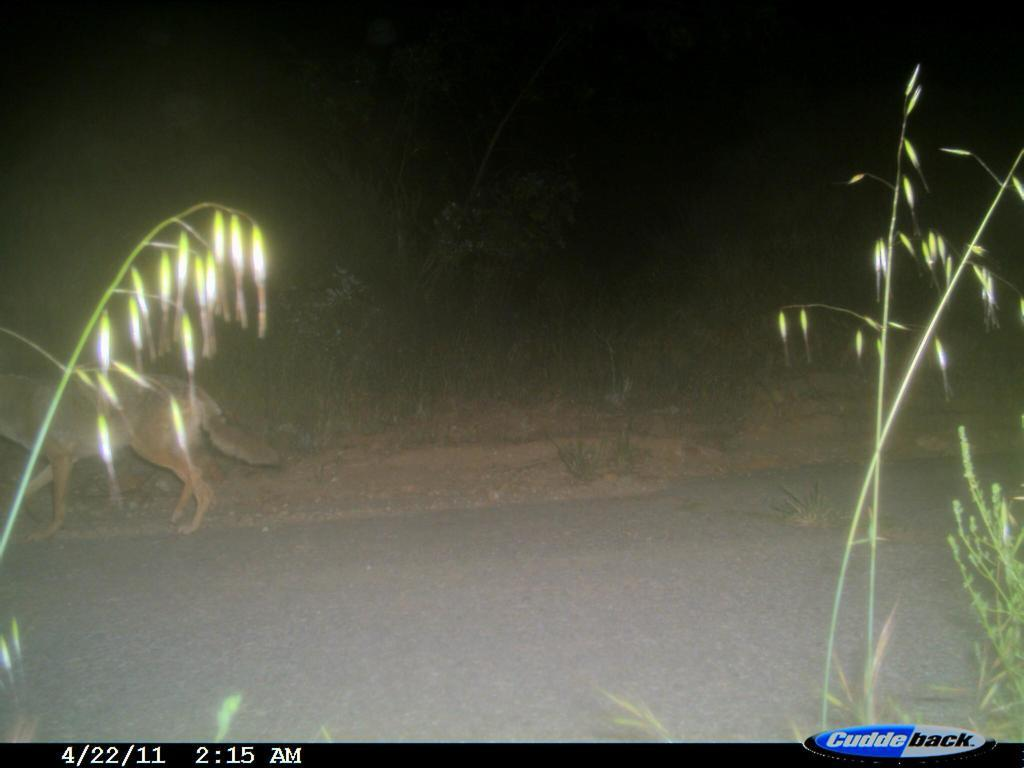coyote: (1, 345, 313, 546)
